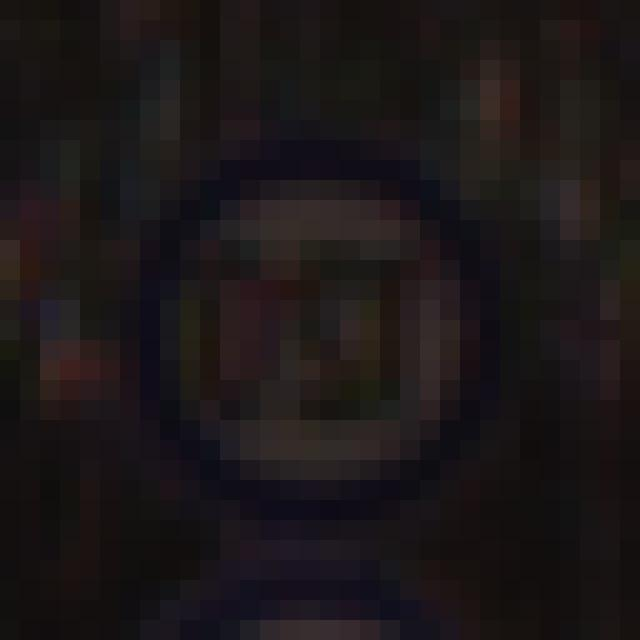SPEED LIMIT 120: (131, 153, 501, 500)
